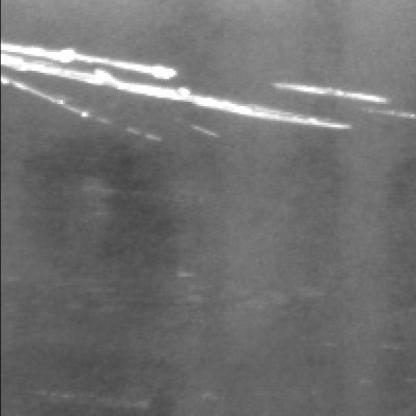scratches: (0, 44, 352, 144), (250, 77, 412, 123)
